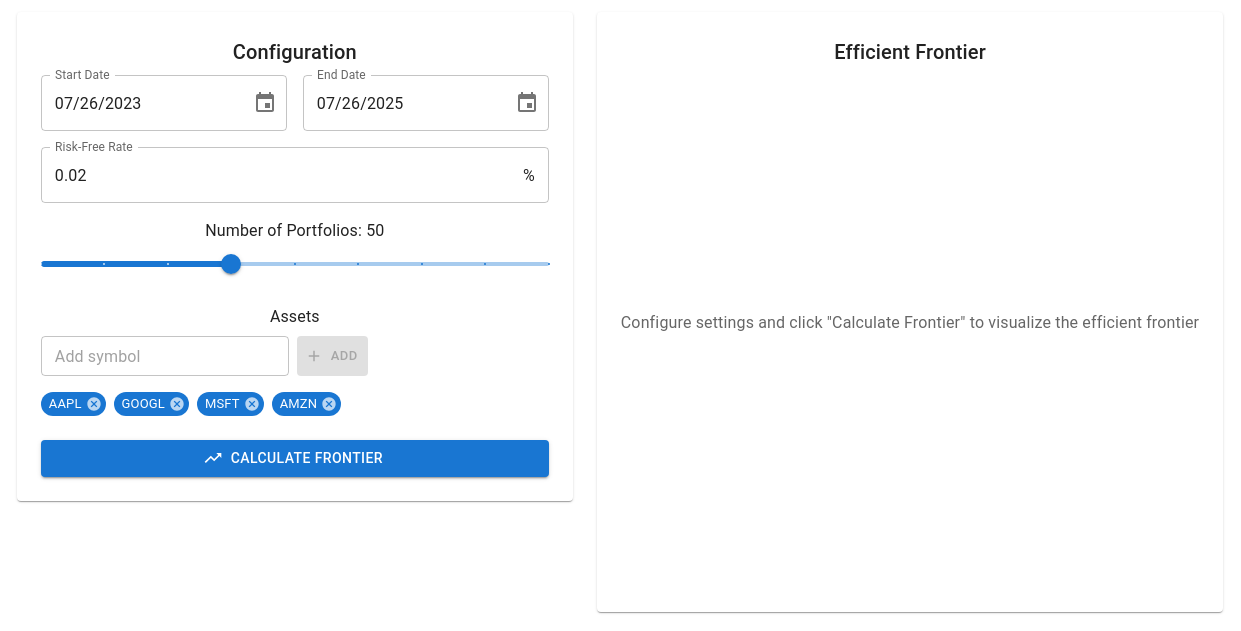
Test: EfficientFrontierChart › removes symbol when delete clicked
Click the 1st icon with test id "CancelIcon". click: (94, 404)
box: [86,396,102,412]
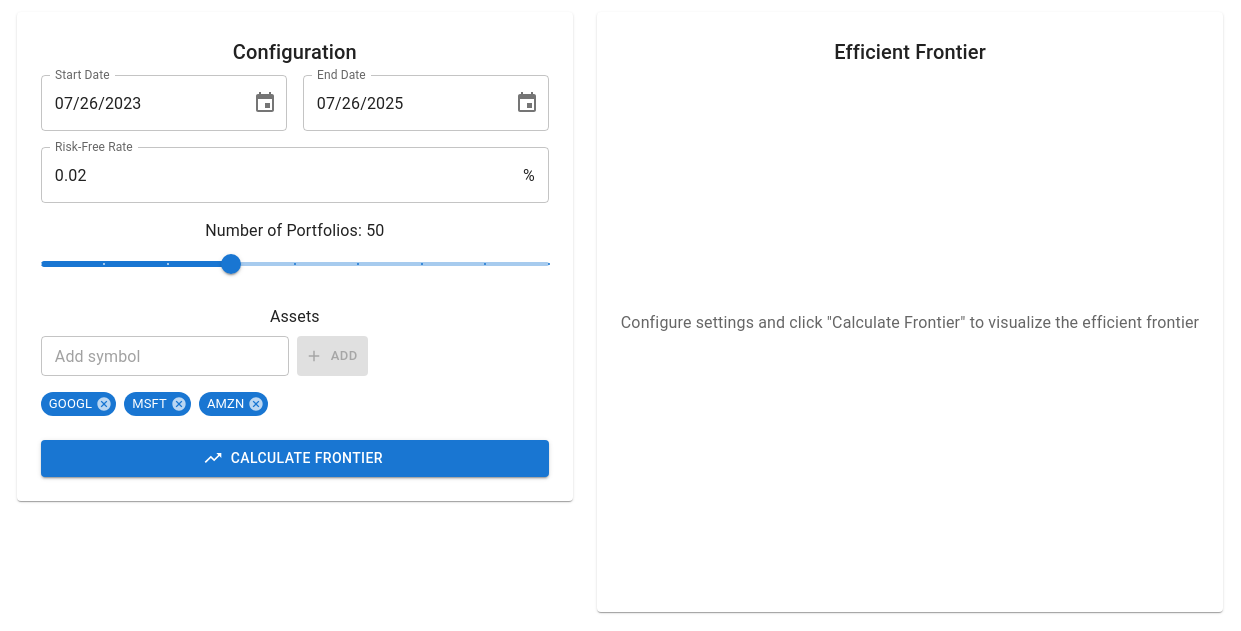
Expected: the button "AAPL" is gone
